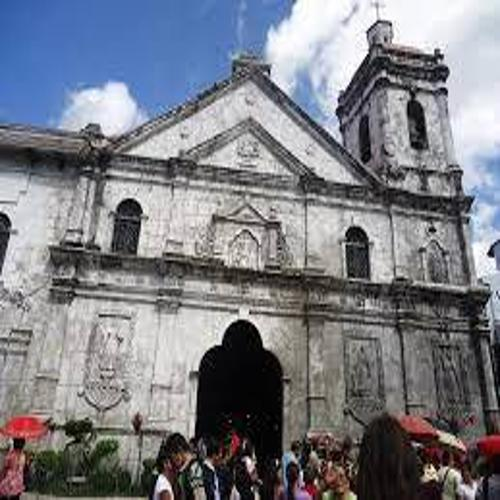Sto. Nino Basilica Church: (65, 2, 500, 488)
